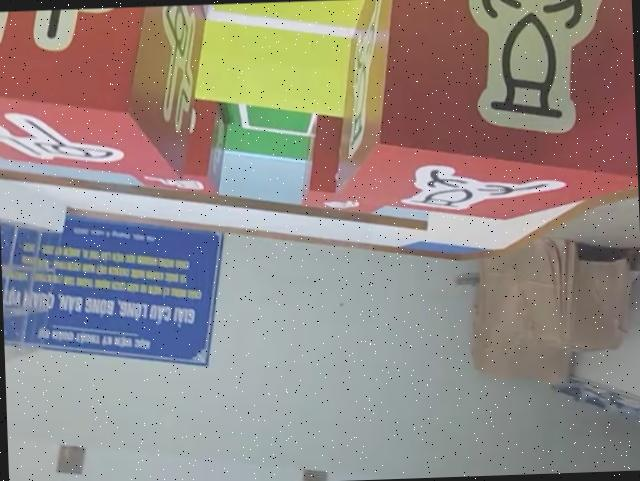R2 Real: (325, 0, 639, 230), (0, 4, 213, 191)
